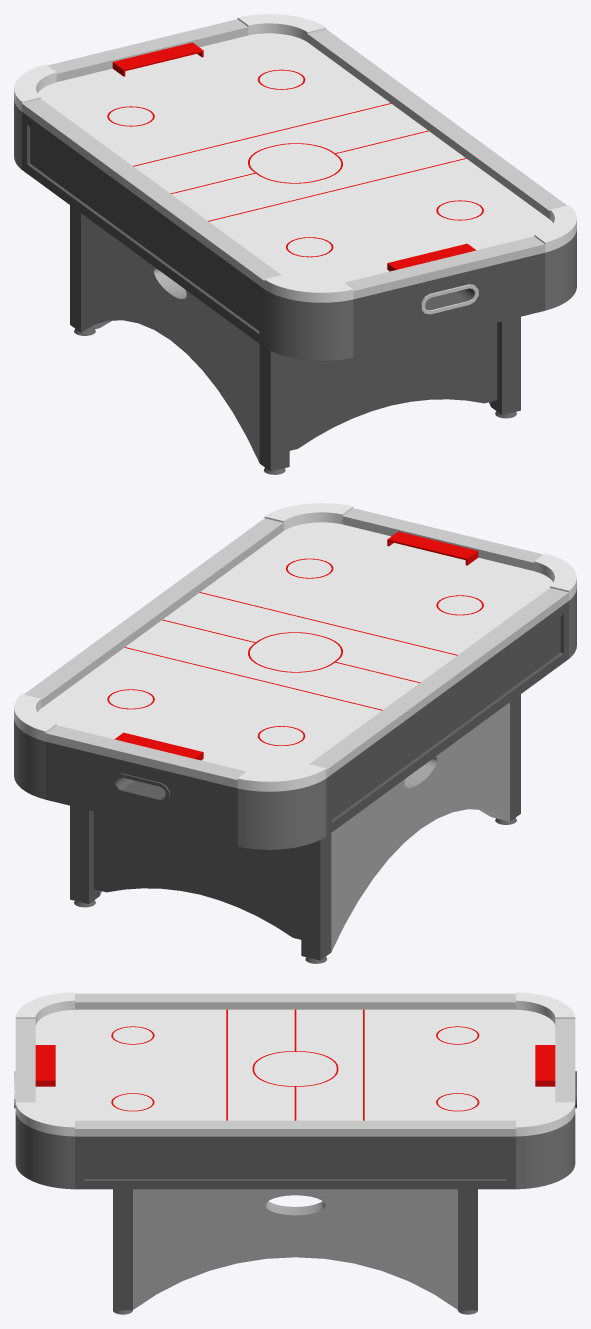
The model's file is hockeytable.dae.
3 views of the same model, one above another, from view 1: azimuth 30°, elevation 25°; view 2: azimuth 150°, elevation 25°; view 3: azimuth 270°, elevation 25° (orthographic). The views are drawn at different scales.
Parts seen in each view (by area): view 1: instance_18.019; view 2: instance_18.019; view 3: instance_18.019.
Boxes of the visible parts, left/top/right/bottom form: instance_18.019: left=14, top=14, right=576, bottom=474; instance_18.019: left=14, top=503, right=576, bottom=963; instance_18.019: left=14, top=992, right=576, bottom=1314.
Size of the model in its own units: 1.22 by 2.15 by 0.8382.
